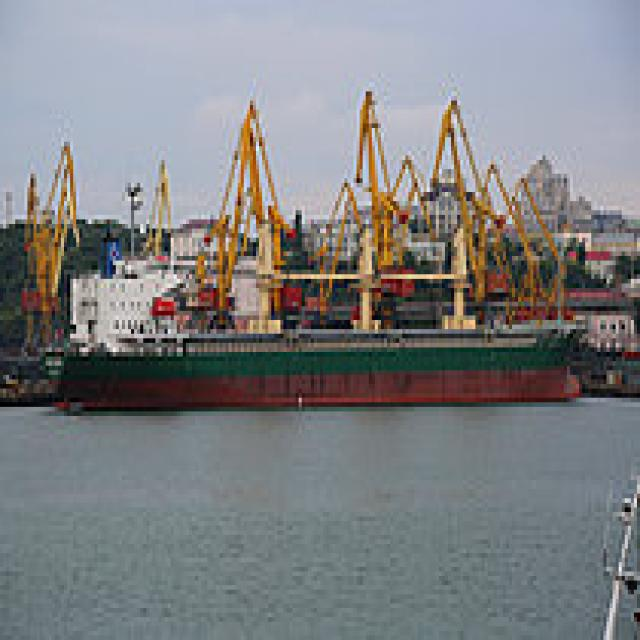Cargo: (43, 242, 579, 407)
